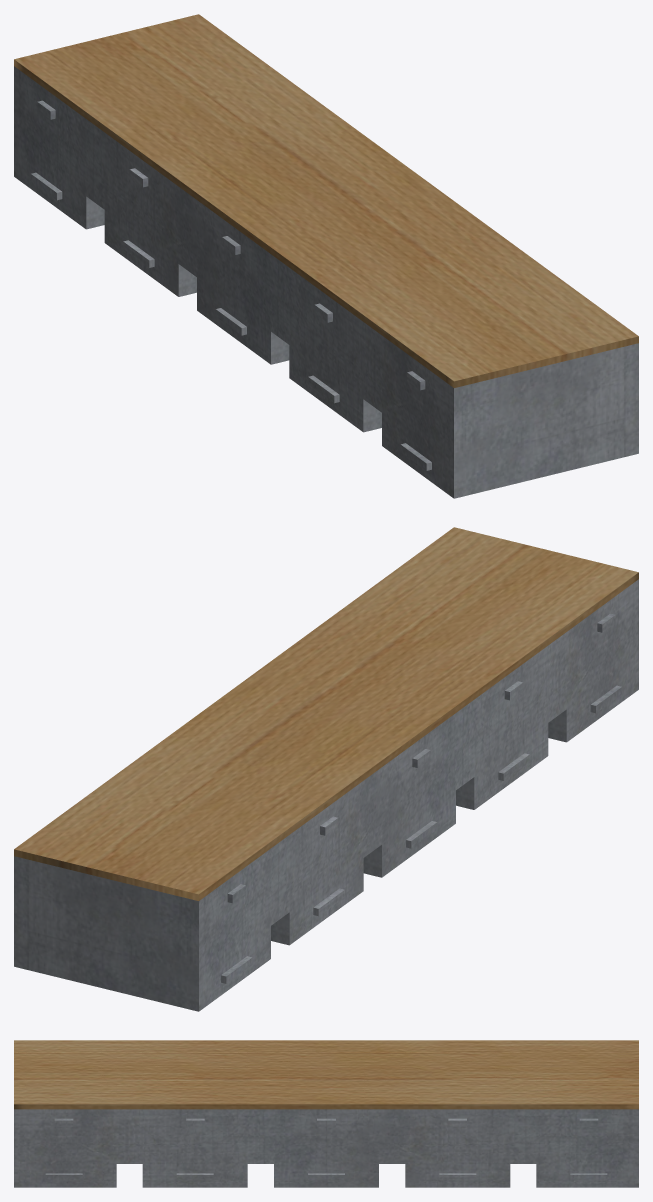
Rendered from Table_Drawers.fbx.
The picture shows the model from 3 angles, top to bottom: view 1: azimuth 30°, elevation 25°; view 2: azimuth 150°, elevation 25°; view 3: azimuth 270°, elevation 25°; orthographic projection. The views are drawn at different scales.
Parts seen in each view (by area): view 1: Drawers; view 2: Drawers; view 3: Drawers.
Boxes of the visible parts, bbox=[...] form: Drawers: bbox=[14, 14, 638, 498]; Drawers: bbox=[14, 527, 638, 1011]; Drawers: bbox=[14, 1040, 638, 1187].
Size of the model in its own units: 703 by 403 by 2740.
Materials: 1 (1 with a texture image).
